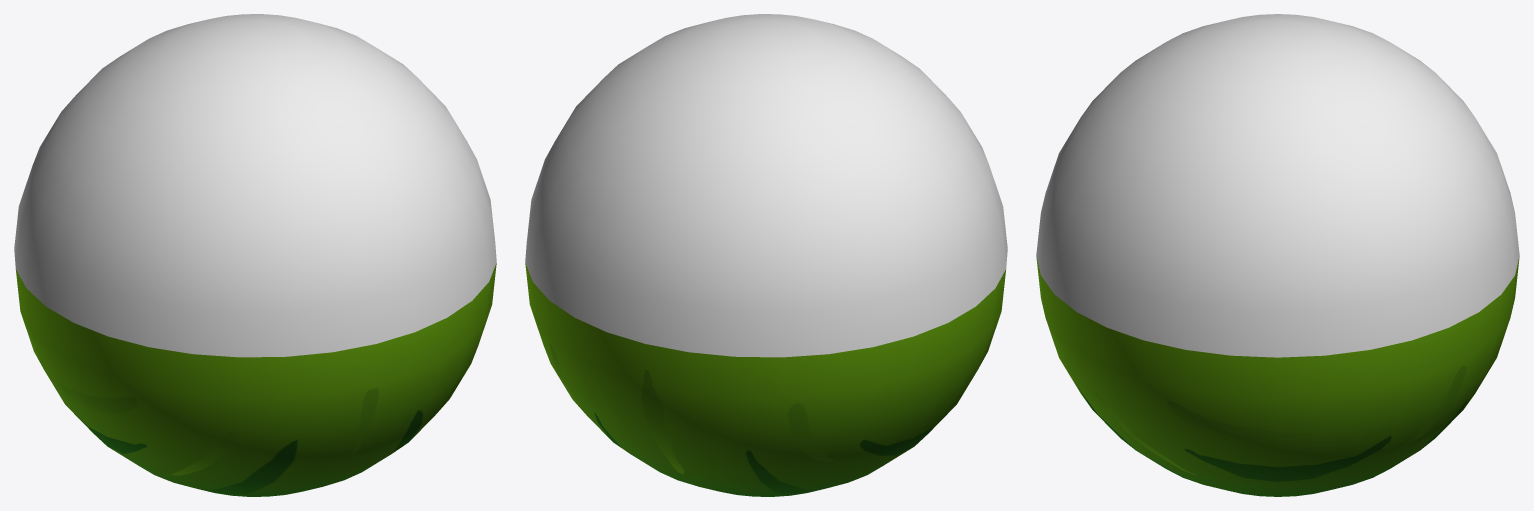
Rendered from WatermelonBall.fbx.
The picture shows the model from 3 angles, left to right: view 1: azimuth 30°, elevation 25°; view 2: azimuth 150°, elevation 25°; view 3: azimuth 270°, elevation 25°; orthographic projection.
Parts seen in each view (by area): view 1: bubble; view 2: bubble; view 3: bubble.
Boxes of the visible parts, x1,y1,x2,y2 form: bubble: (14,14,496,496); bubble: (525,14,1007,496); bubble: (1036,14,1519,496).
Bounding box in the file's own units: 200 × 200 × 200.
2 materials, 1 textured.
